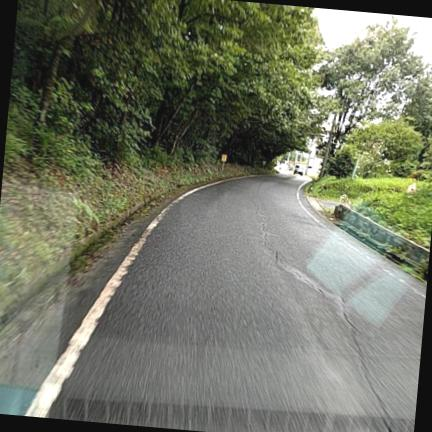Road: (50, 176, 425, 431)
